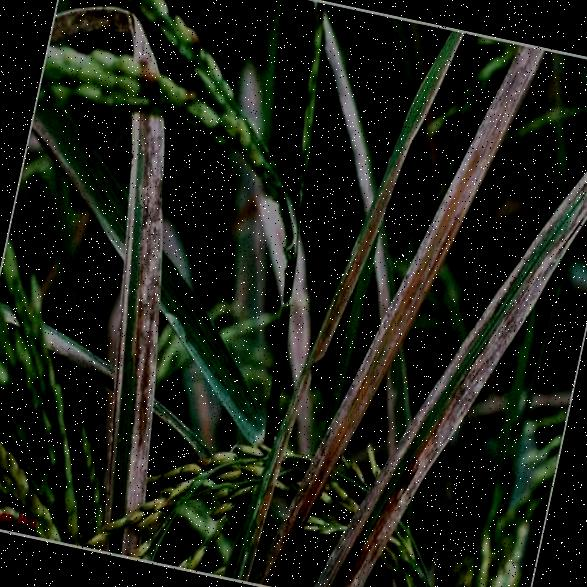Bacteria_Leaf_Blight: (269, 63, 587, 580), (22, 19, 244, 526)
